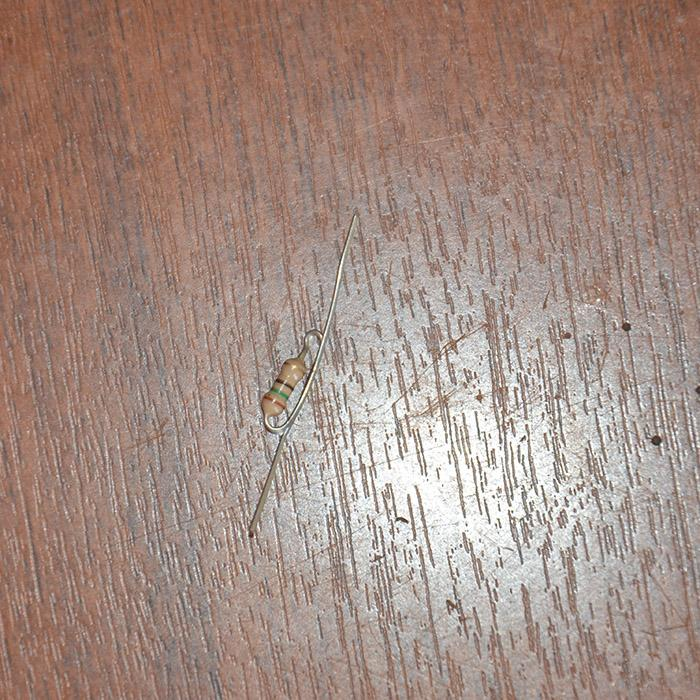resistor: (261, 356, 307, 417)
